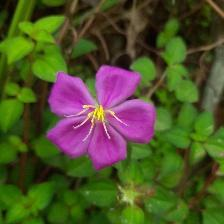malabar melastome: (46, 64, 160, 172)
